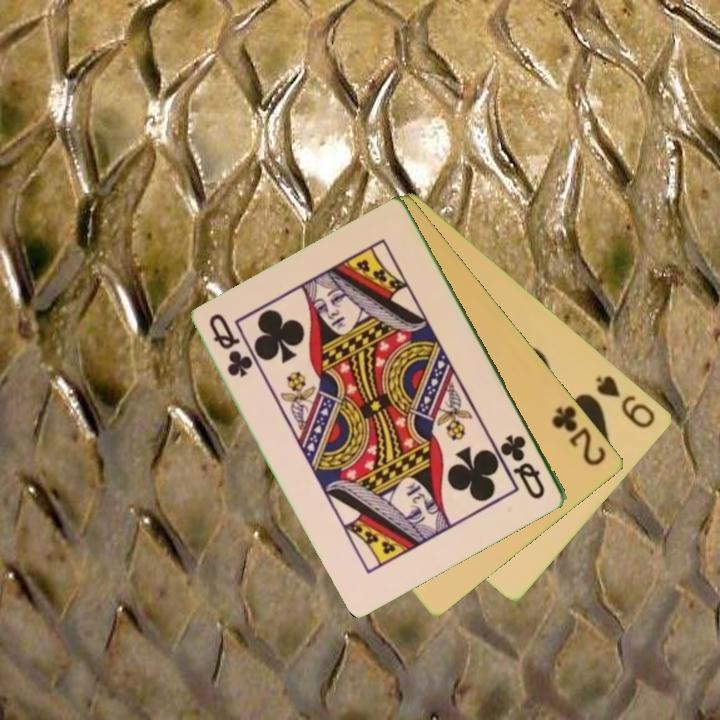2c: (548, 402, 610, 469)
9s: (592, 372, 659, 432)
Qc: (497, 431, 549, 503), (206, 310, 256, 381)
